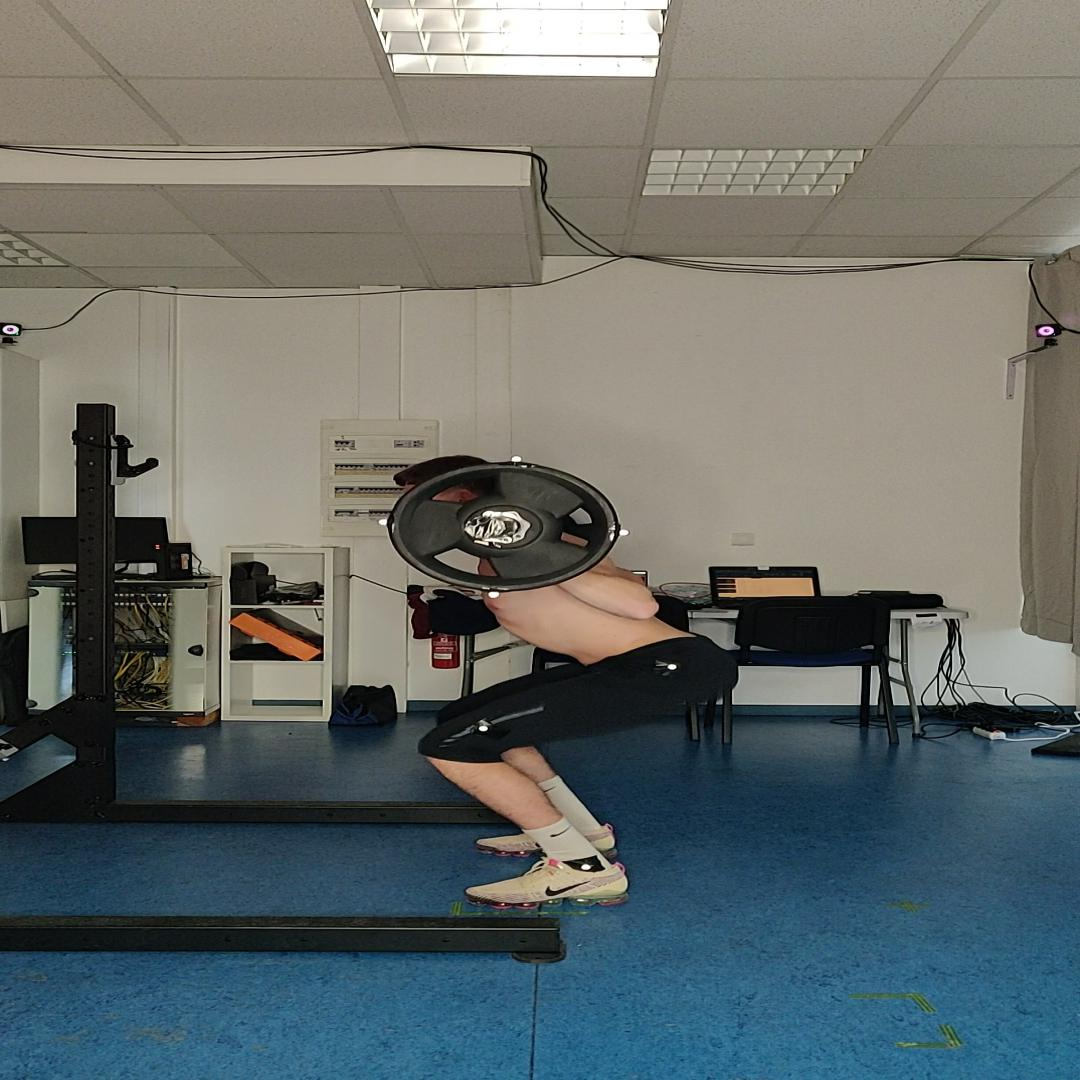Bar: (465, 516, 504, 540)
Barbell: (387, 462, 621, 592)
